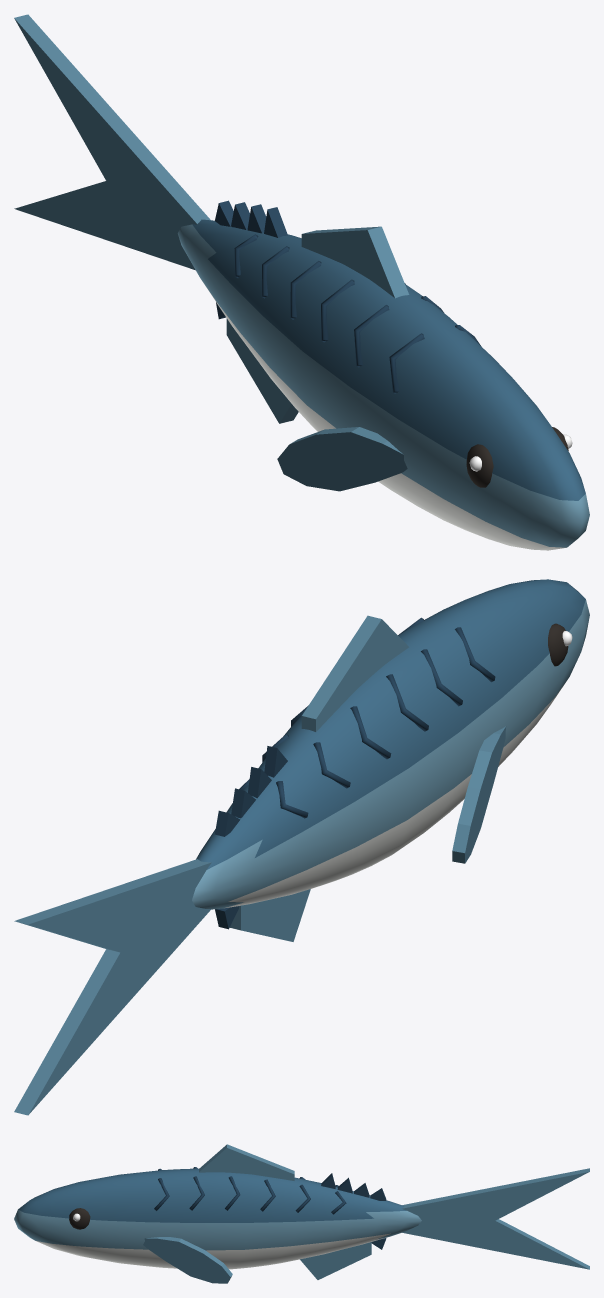
The model's file is fish-mackerel.glb.
3 renders of one model, top to bottom at view 1: azimuth 30°, elevation 25°; view 2: azimuth 150°, elevation 25°; view 3: azimuth 270°, elevation 25°, orthographic. The views are drawn at different scales.
Visible parts, largest first — view 1: fish; view 2: fish; view 3: fish.
Boxes of the visible parts, x1,y1,x2,y2 form: fish: [14, 14, 589, 550]; fish: [14, 579, 589, 1115]; fish: [14, 1144, 589, 1283].
Bounding box in the file's own units: 0.0792 × 0.1042 × 0.41.
